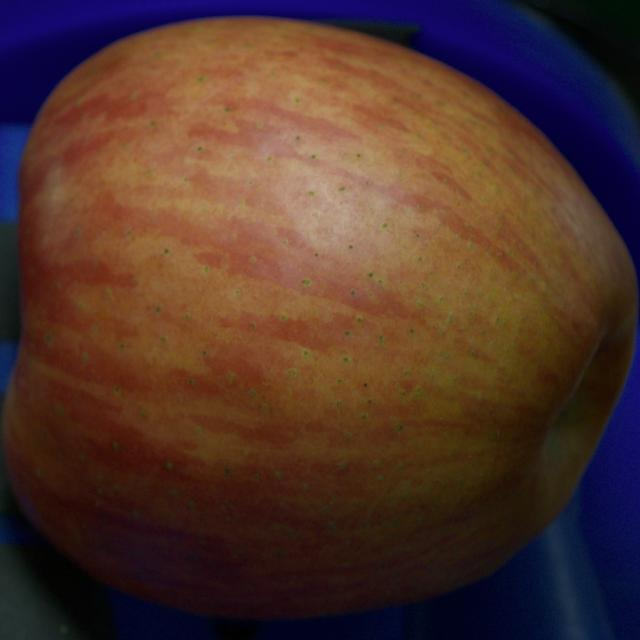apple: (2, 18, 638, 618)
